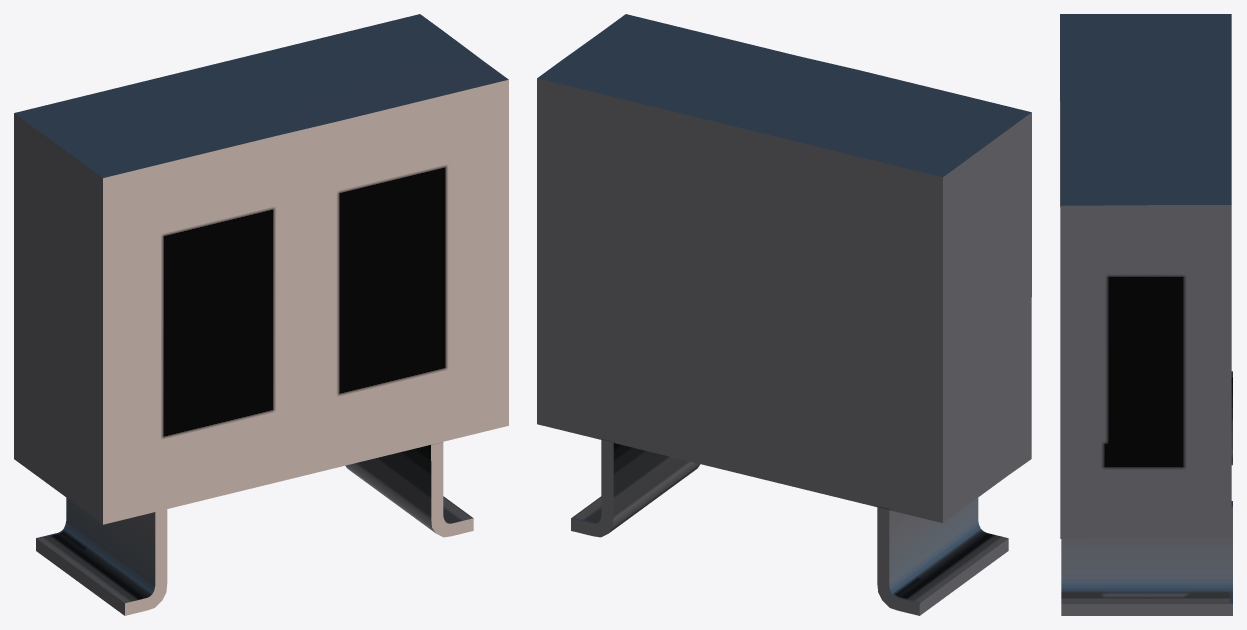
File: dianzi_2.glb
3 renders of one model, left to right at view 1: azimuth 30°, elevation 25°; view 2: azimuth 150°, elevation 25°; view 3: azimuth 270°, elevation 25°, orthographic. The views are drawn at different scales.
Visible parts, largest first — view 1: 立方体_1; view 2: 立方体_1; view 3: 立方体_1.
Boxes of the visible parts, left/top/right/bottom form: 立方体_1: left=14, top=14, right=508, bottom=615; 立方体_1: left=537, top=14, right=1031, bottom=615; 立方体_1: left=1060, top=14, right=1232, bottom=615.
Bounding box in the file's own units: 3.18 × 3.32 × 1.22.
1 material, 1 textured.
